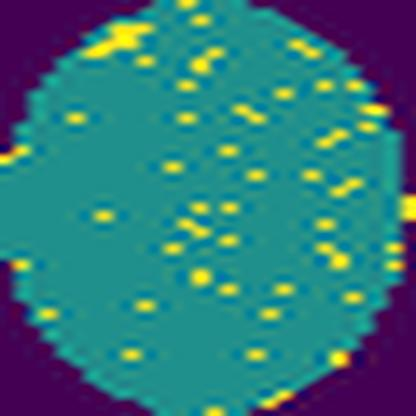Edge-Loc: (76, 8, 159, 66)
